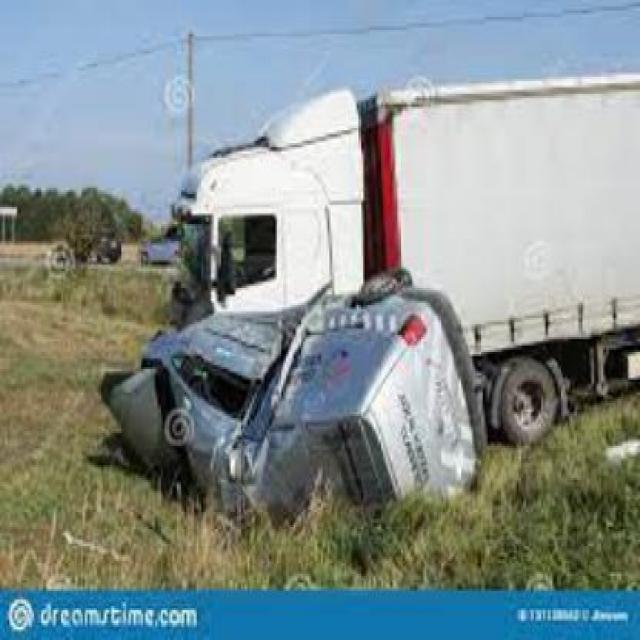accident: (103, 56, 640, 546)
